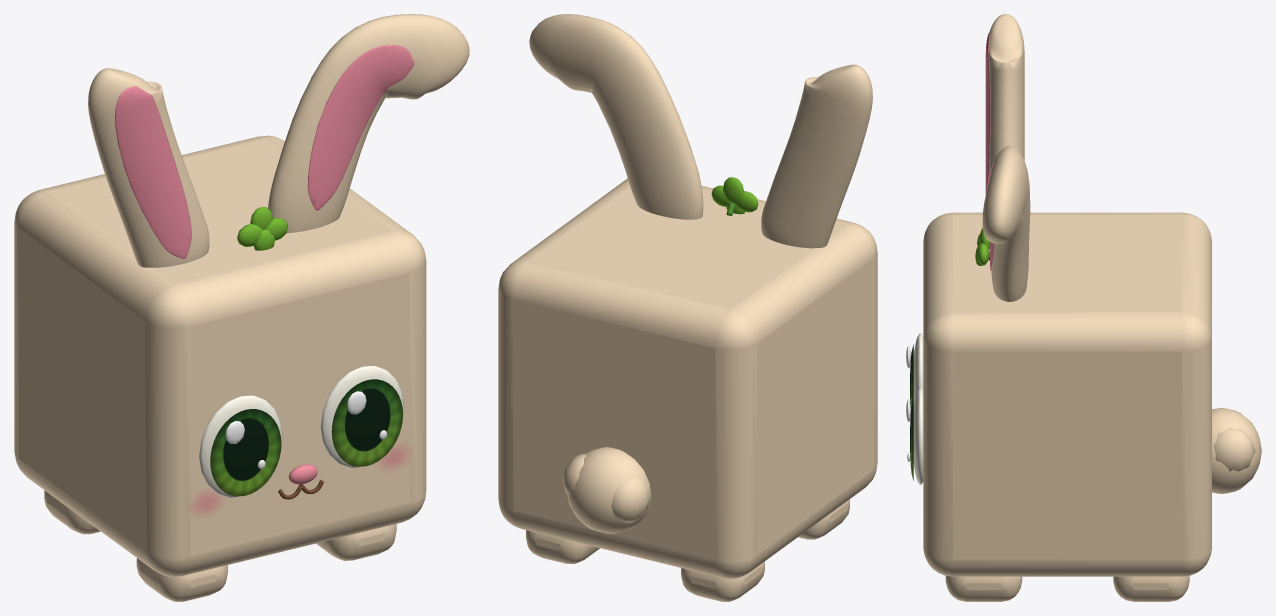
File: CloverBunny.glb
3 views of the same model, side by side, from view 1: azimuth 30°, elevation 25°; view 2: azimuth 150°, elevation 25°; view 3: azimuth 270°, elevation 25° (orthographic). The views are drawn at different scales.
Parts seen in each view (by area): view 1: CB_Body_Export, CB_Ear_Folded_Export, CB_Ear_Upright_Export, CB_Ear_Upright_Pink_Export, CB_Ear_Folded_Pink_Export, CB_Iris_R_Export, CB_Iris_L_Export, CB_Foot_L_Front_Export, CB_EyeWhite_R_Export, CB_EyeWhite_L_Export, CB_Foot_R_Front_Export, CB_Foot_L_Rear_Export (+1 smaller); view 2: CB_Body_Export, CB_Ear_Folded_Export, CB_Ear_Upright_Export, CB_Tail_Export, CB_Foot_L_Rear_Export, CB_Foot_R_Rear_Export, CB_Tail_Lobe_L_Export, CB_Foot_L_Front_Export, CB_Tail_Lobe_R_Export; view 3: CB_Body_Export, CB_Ear_Folded_Export, CB_Ear_Upright_Export, CB_Tail_Export, CB_Foot_R_Front_Export, CB_Foot_R_Rear_Export, CB_Tail_Lobe_R_Export, CB_EyeWhite_R_Export, CB_Ear_Upright_Pink_Export, CB_EyeWhite_L_Export.
Boxes of the visible parts, left/top/right/bottom form: CB_Body_Export: left=14, top=135, right=426, bottom=576; CB_Ear_Folded_Export: left=268, top=14, right=469, bottom=233; CB_Ear_Upright_Export: left=88, top=68, right=209, bottom=267; CB_Ear_Upright_Pink_Export: left=115, top=86, right=191, bottom=259; CB_Ear_Folded_Pink_Export: left=307, top=44, right=414, bottom=210; CB_Iris_R_Export: left=331, top=379, right=402, bottom=466; CB_Iris_L_Export: left=210, top=409, right=281, bottom=496; CB_Foot_L_Front_Export: left=136, top=558, right=227, bottom=601; CB_EyeWhite_R_Export: left=320, top=365, right=404, bottom=467; CB_EyeWhite_L_Export: left=199, top=395, right=282, bottom=497; CB_Foot_R_Front_Export: left=316, top=524, right=396, bottom=560; CB_Foot_L_Rear_Export: left=44, top=490, right=100, bottom=534; CB_Body_Export: left=498, top=178, right=877, bottom=578; CB_Ear_Folded_Export: left=529, top=14, right=703, bottom=219; CB_Ear_Upright_Export: left=761, top=64, right=872, bottom=248; CB_Tail_Export: left=567, top=447, right=651, bottom=533; CB_Foot_L_Rear_Export: left=681, top=561, right=764, bottom=601; CB_Foot_R_Rear_Export: left=526, top=530, right=599, bottom=563; CB_Tail_Lobe_L_Export: left=611, top=478, right=650, bottom=522; CB_Foot_L_Front_Export: left=798, top=499, right=849, bottom=539; CB_Tail_Lobe_R_Export: left=562, top=453, right=586, bottom=496; CB_Body_Export: left=923, top=212, right=1211, bottom=576; CB_Ear_Folded_Export: left=982, top=146, right=1030, bottom=301; CB_Ear_Upright_Export: left=988, top=14, right=1024, bottom=176; CB_Tail_Export: left=1212, top=408, right=1261, bottom=493; CB_Foot_R_Front_Export: left=945, top=576, right=1022, bottom=601; CB_Foot_R_Rear_Export: left=1113, top=576, right=1189, bottom=601; CB_Tail_Lobe_R_Export: left=1213, top=427, right=1255, bottom=471; CB_EyeWhite_R_Export: left=913, top=387, right=923, bottom=484; CB_Ear_Upright_Pink_Export: left=985, top=33, right=990, bottom=194; CB_EyeWhite_L_Export: left=913, top=333, right=923, bottom=407.
Size of the model in its own units: 2.71 by 3.64 by 2.46.
10 materials, 2 textured.
